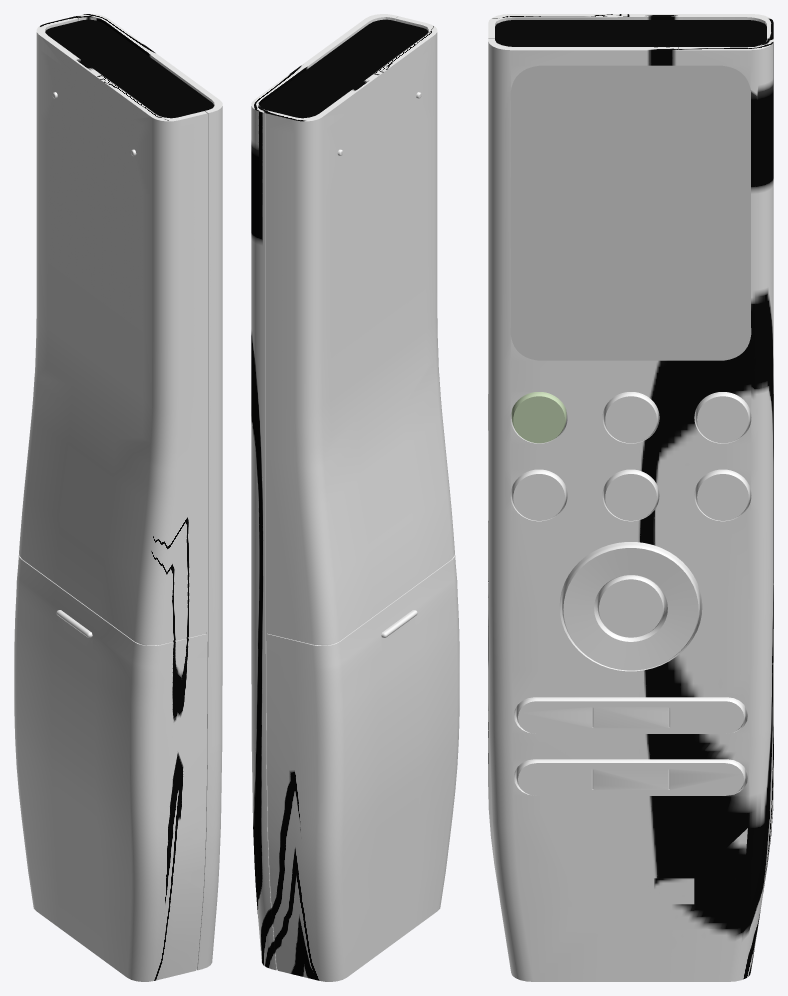
The model's file is air_remote.fbx.
3 views of the same model, side by side, from view 1: azimuth 30°, elevation 25°; view 2: azimuth 150°, elevation 25°; view 3: azimuth 270°, elevation 25° (orthographic). The views are drawn at different scales.
Visible parts, largest first — view 1: Remote controller; view 2: Remote controller; view 3: Remote controller.
Part boxes in pixels (bbox=[...]): Remote controller: bbox=[14, 14, 222, 981]; Remote controller: bbox=[251, 14, 459, 981]; Remote controller: bbox=[488, 14, 773, 981].
Bounding box in the file's own units: 2.12 × 18 × 5.01.
Materials: 20 (16 with a texture image).
